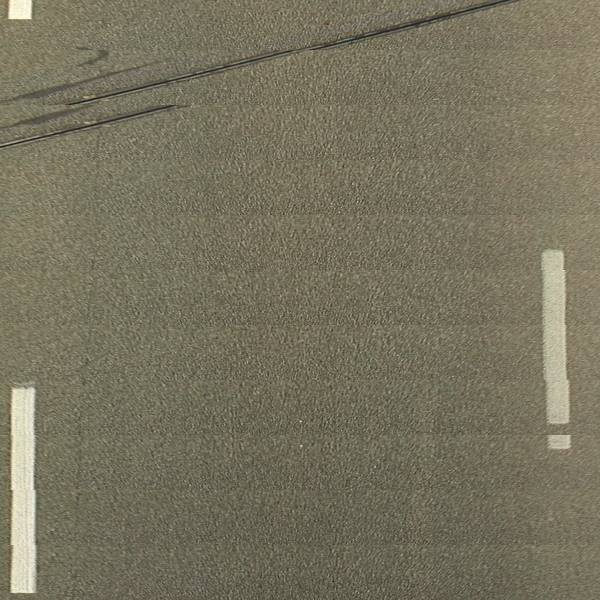road_damage: (163, 2, 496, 89), (63, 166, 106, 543), (1, 105, 185, 159), (61, 43, 163, 103)
